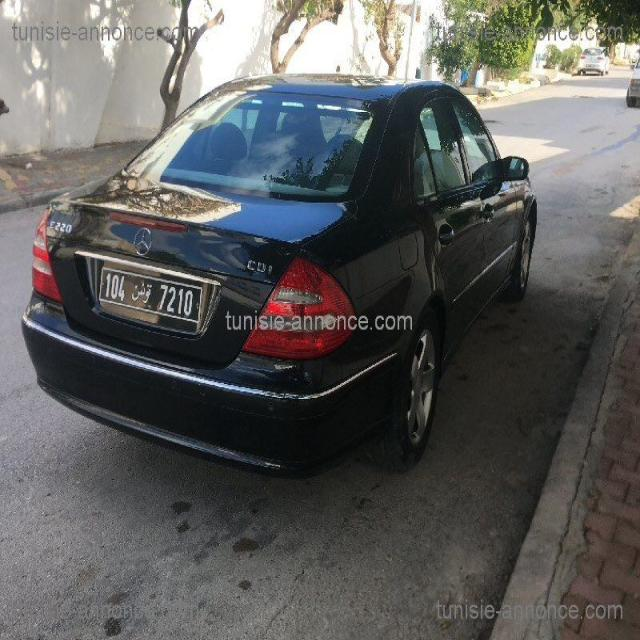LP: (97, 265, 202, 321)
